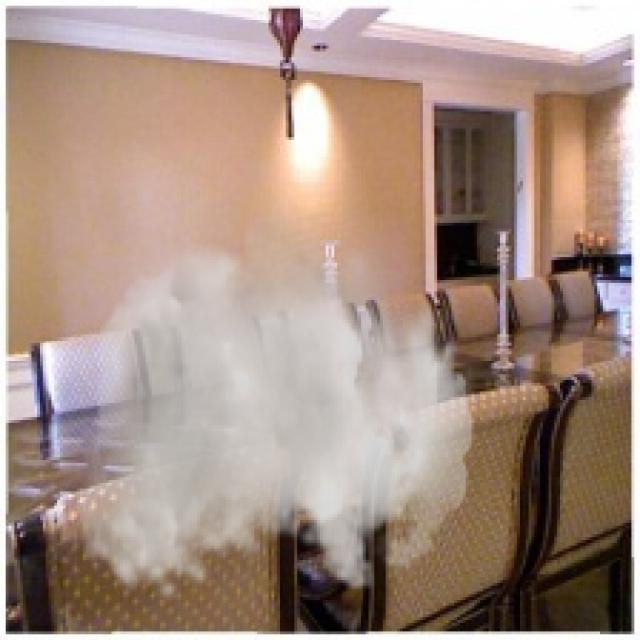Smoke: (77, 191, 474, 603)
